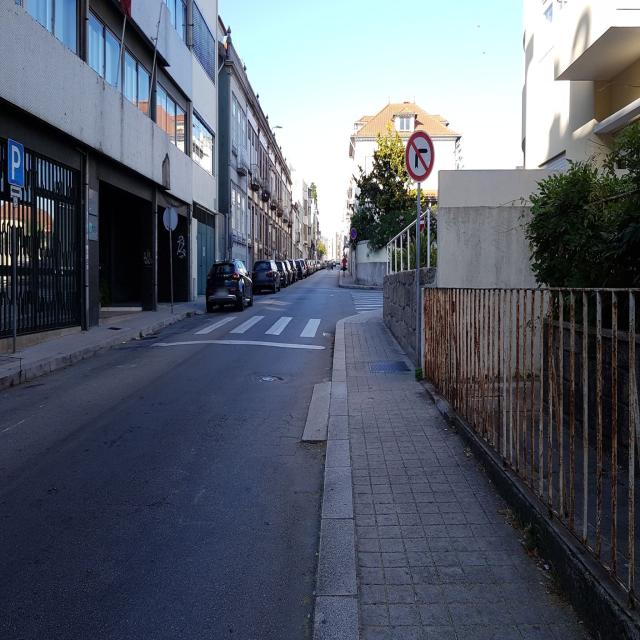forb_stopping: (350, 228, 356, 240)
